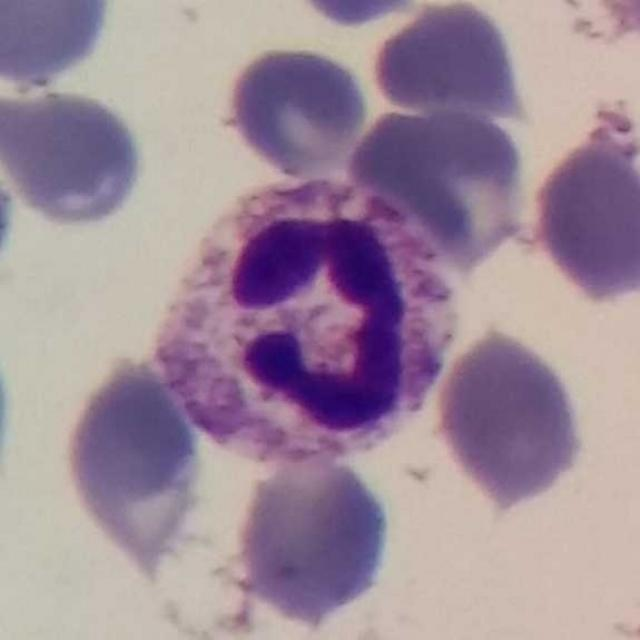Neutrophil: (129, 165, 481, 484)
RBC: (54, 354, 216, 582), (223, 444, 400, 631), (342, 98, 534, 270), (429, 323, 591, 512), (1, 78, 151, 235), (214, 38, 374, 180), (524, 124, 640, 308), (365, 0, 530, 126), (0, 0, 122, 98), (281, 0, 434, 32)
